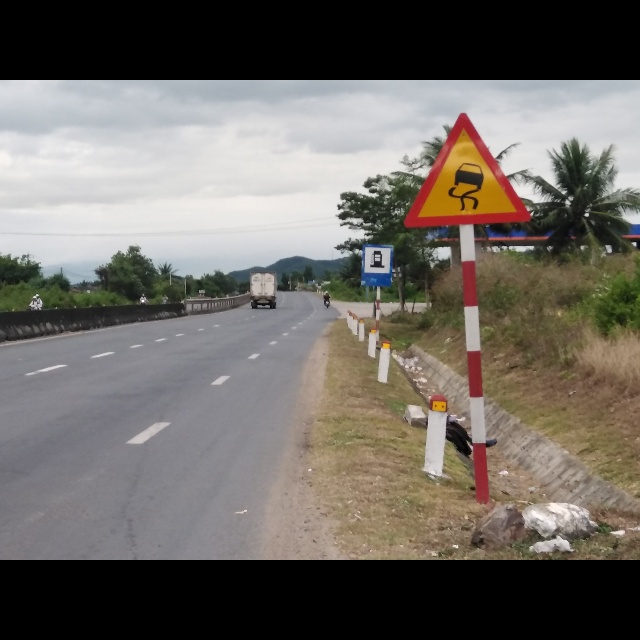Đường trơn trượt: (402, 113, 535, 226)
